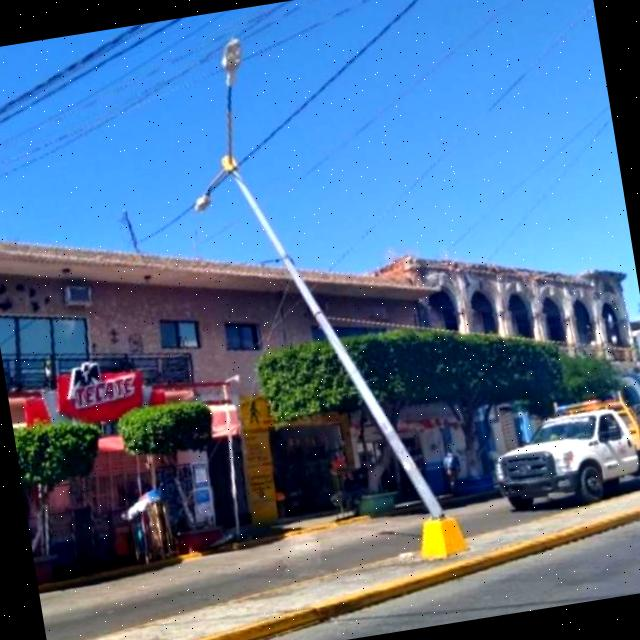Broken Pole: (190, 29, 468, 561)
